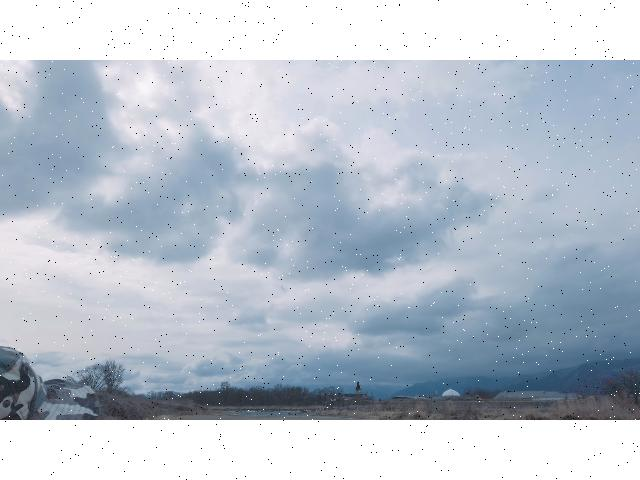Anti-Drone: (278, 283, 286, 292)
